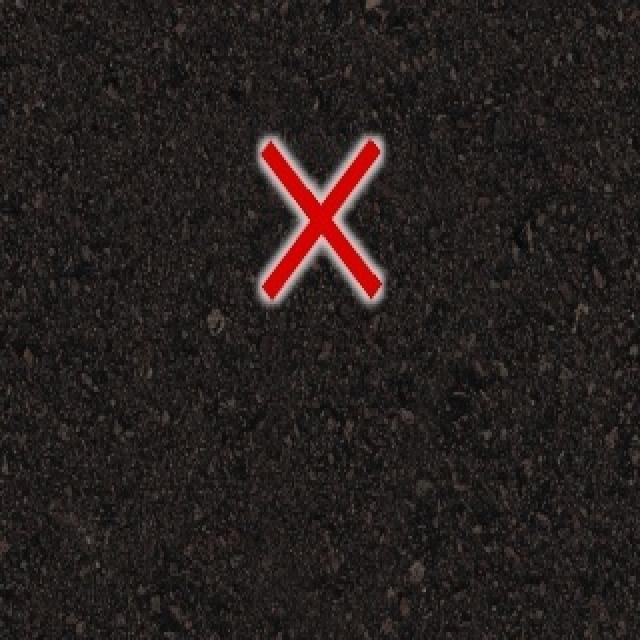x_marker: (261, 140, 379, 297)
